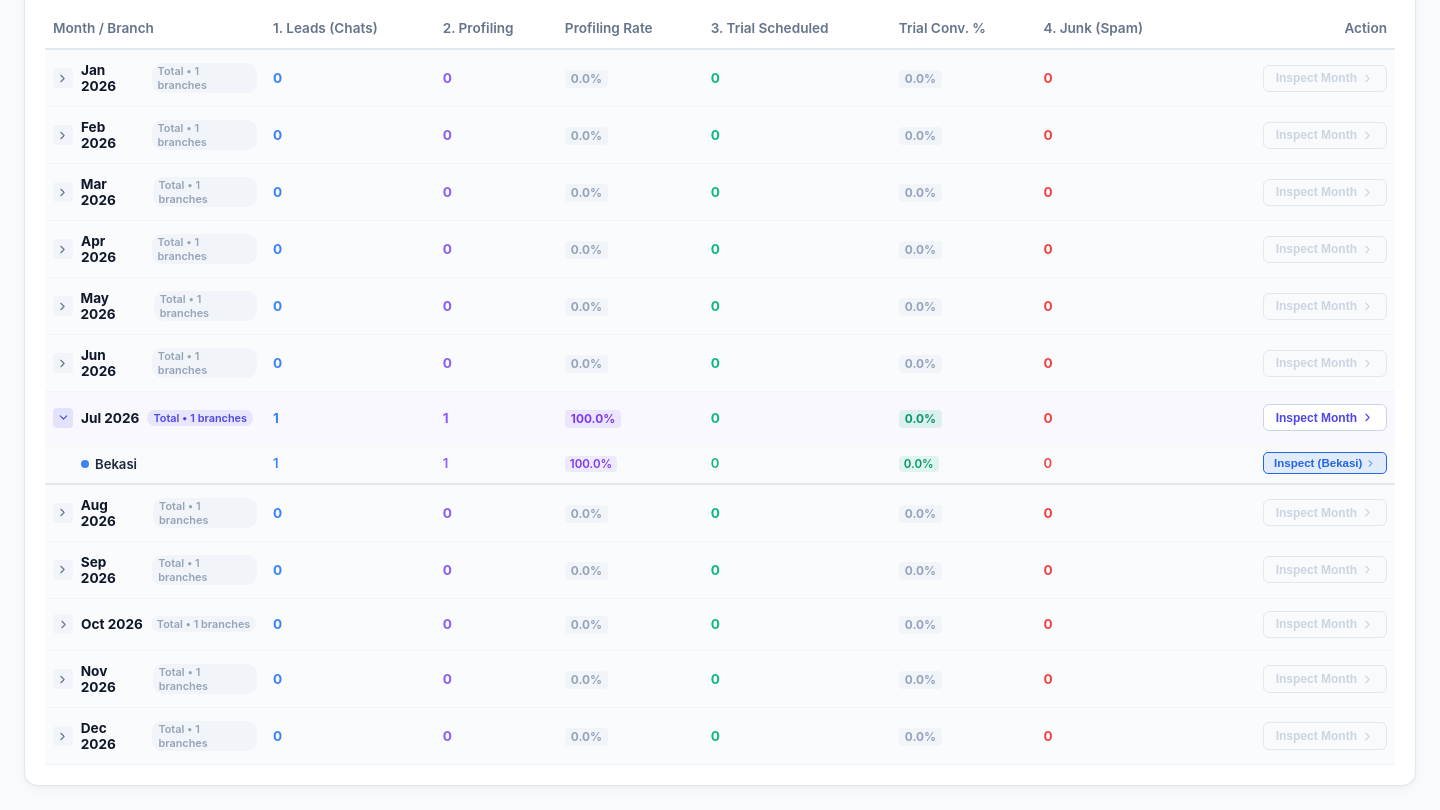
Scenario: NewCrmWeeklyPerformancePage - Profiling Tag and Follow-Up Journey › renders NEED TO FOLLOW UP tag on profiling category leads in drilldown modal
(page scrolled)
What coordinates should you click on to do the following:
click the button "Inspect Month" in the row of "Jul 2026"
I would click on:
 (1325, 418)
Its box is top-left (1263, 404), bottom-right (1387, 431).
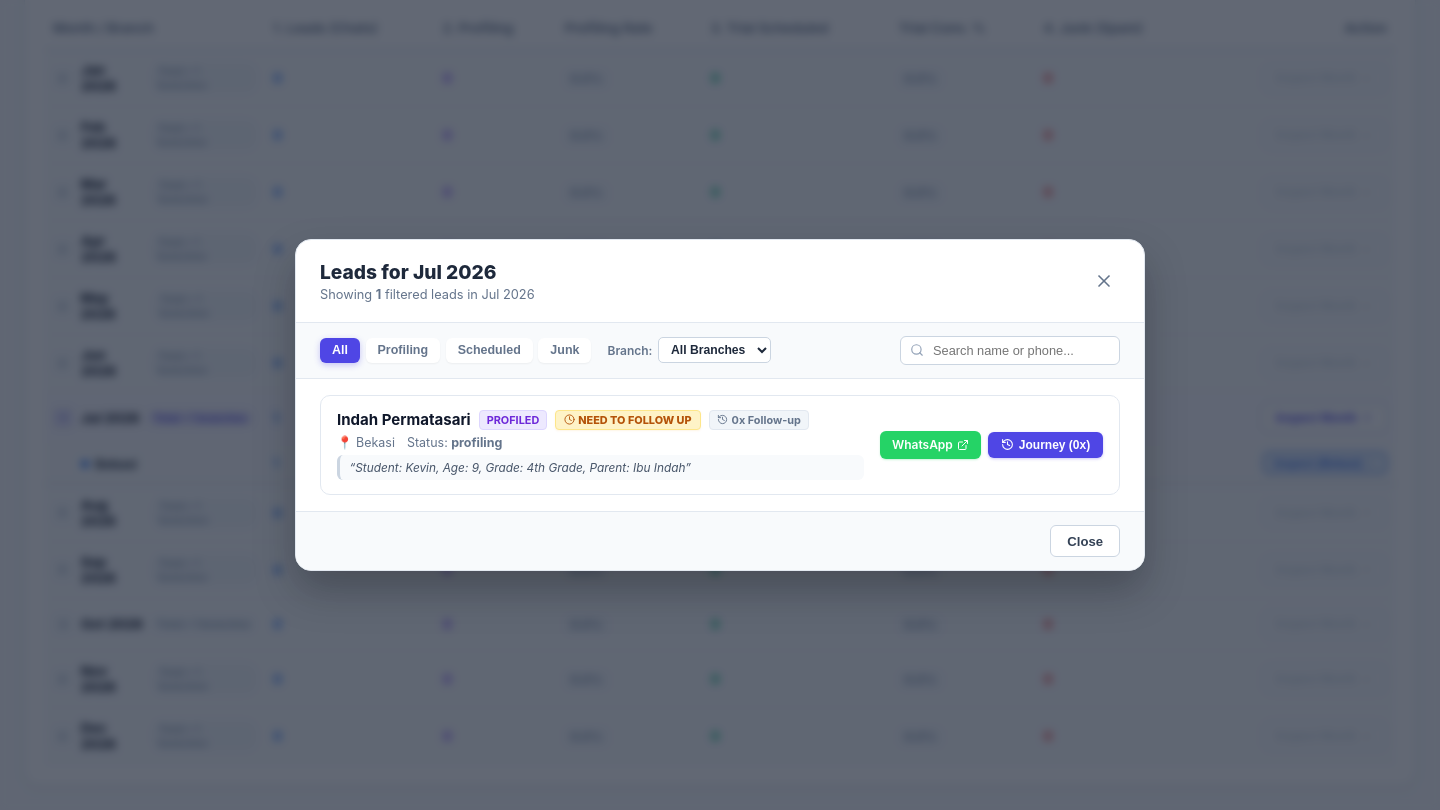
Check: the text "Indah Permatasari" is shown, box top-left (337, 410), bottom-right (471, 429)
Check: the text "NEED TO FOLLOW UP" is shown, box top-left (555, 410), bottom-right (701, 430)
Check: the text "0x Follow-up" is shown, box top-left (709, 410), bottom-right (809, 430)
